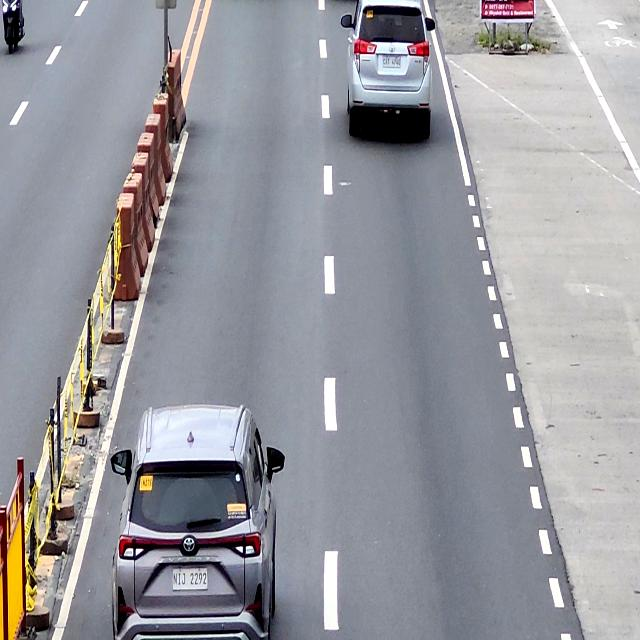Car: (109, 403, 284, 640), (340, 0, 436, 141)
License-Plate: (171, 566, 208, 593), (381, 55, 402, 69)
